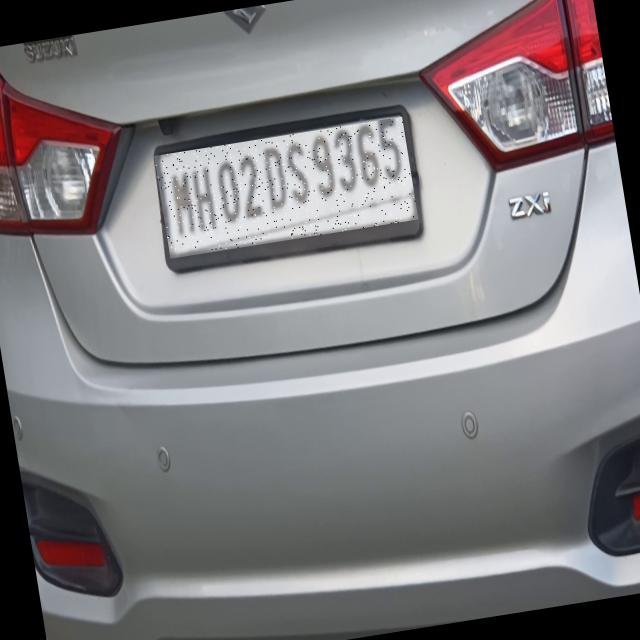Plate: (156, 118, 420, 260)
